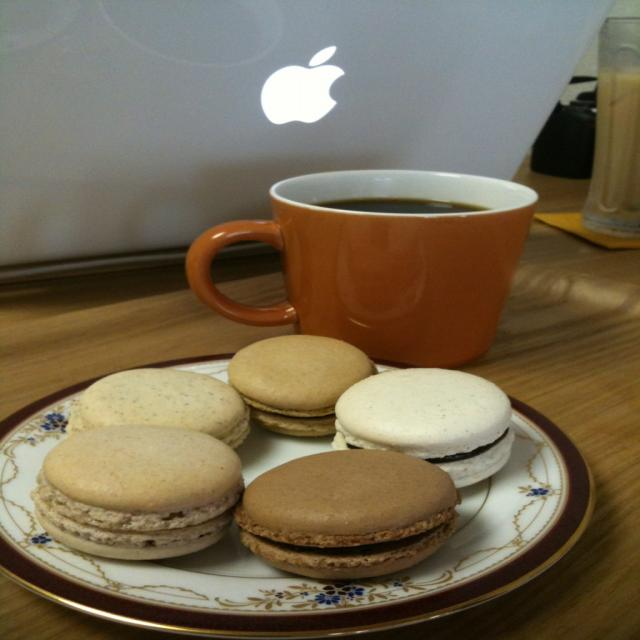Coffee: (306, 200, 490, 216)
Tea: (314, 195, 491, 217)
